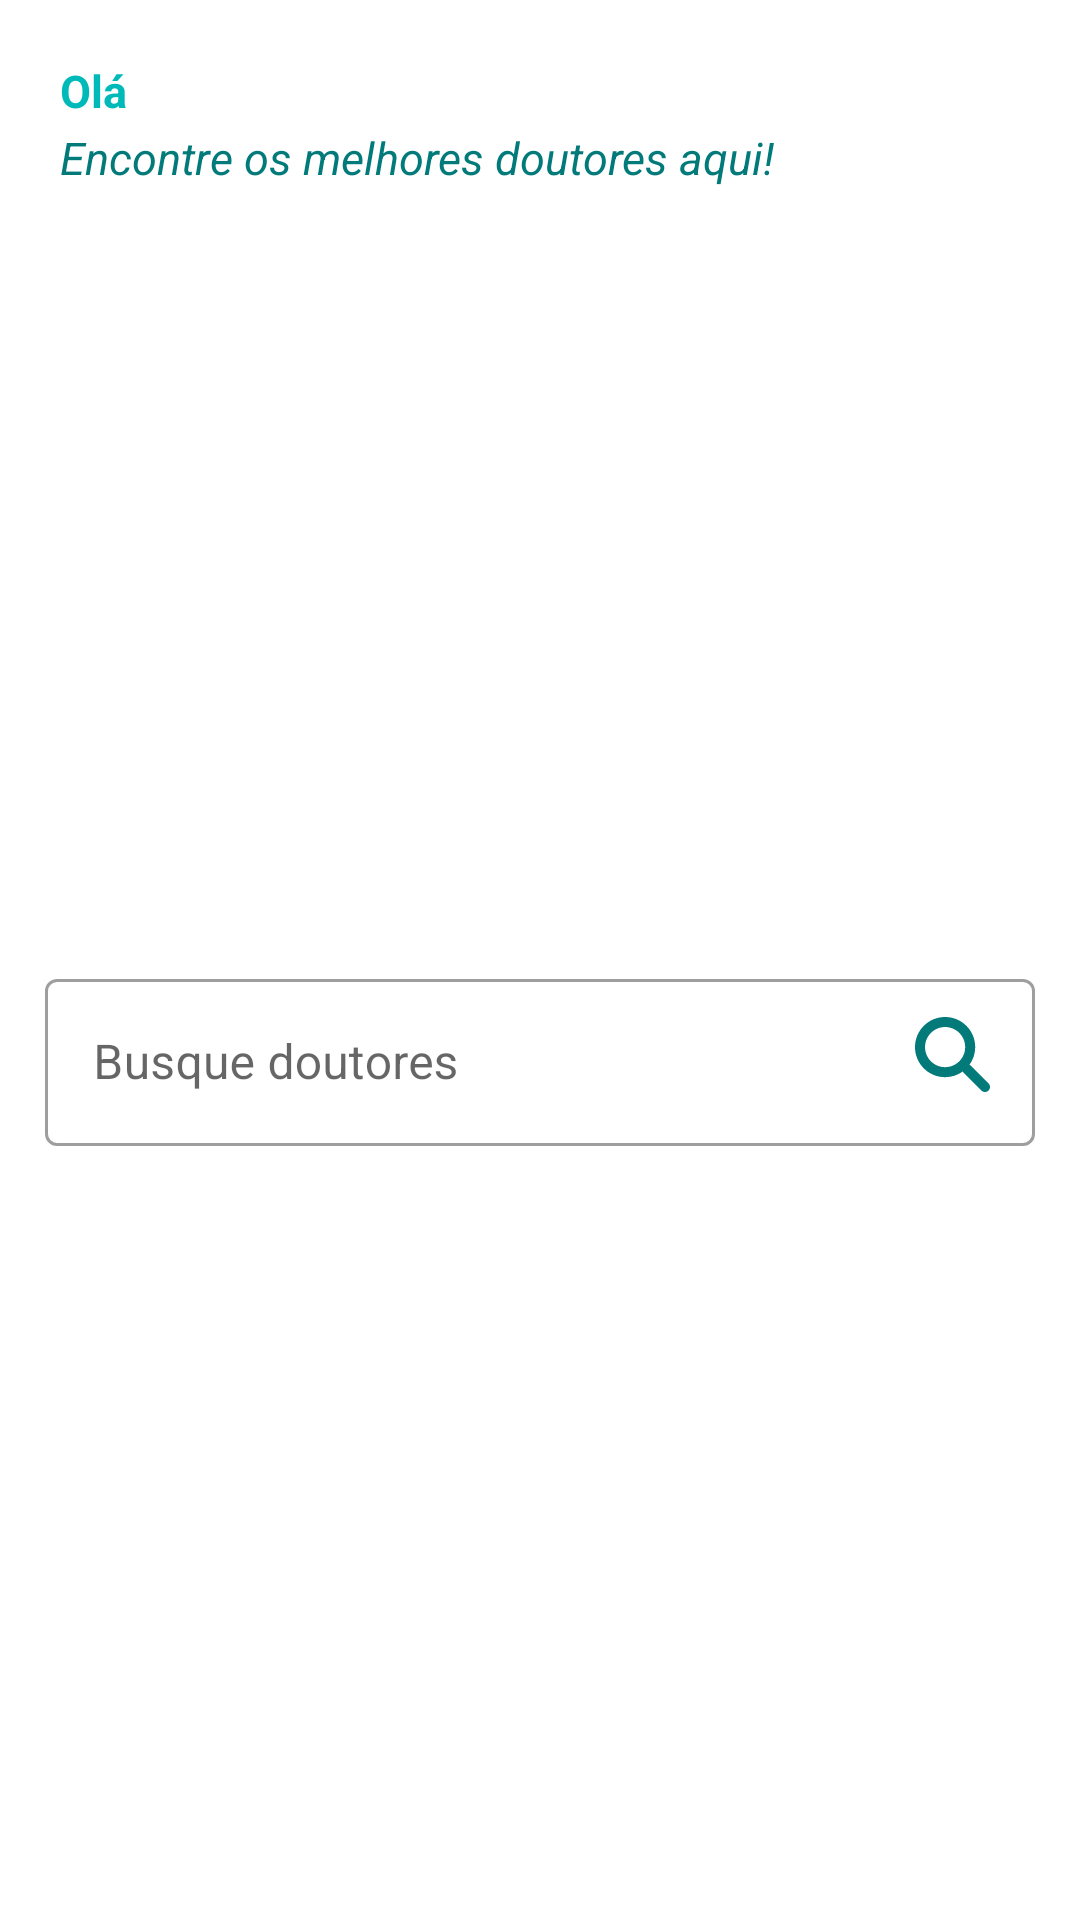

Screen size 1080x1920. Icon name, then its center in pixels as point (x, y):
lupa: point (952, 1054)
